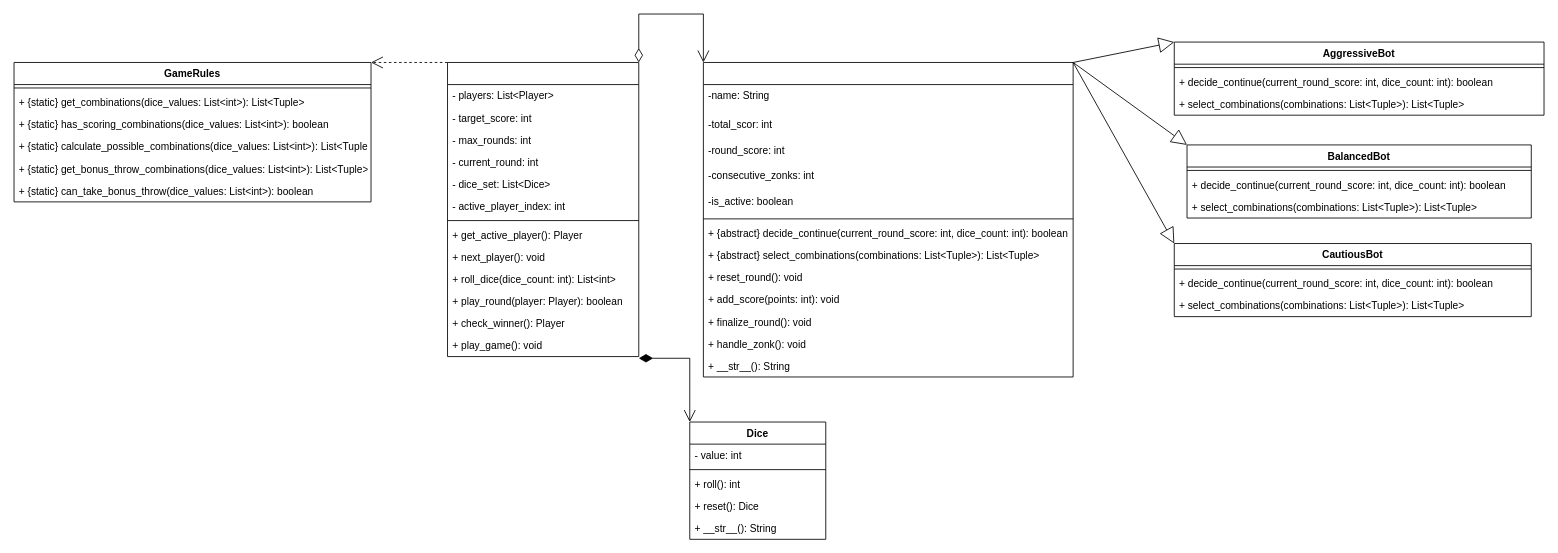
This 1558x553 diagram has some shape labels left out. The shapes that lost their labels are listed below. From the top down, each one's box as (x1, y1, x2, y2) in pixels, then its label:
(447, 62, 639, 357): GameEngine
(703, 62, 1073, 377): Player
